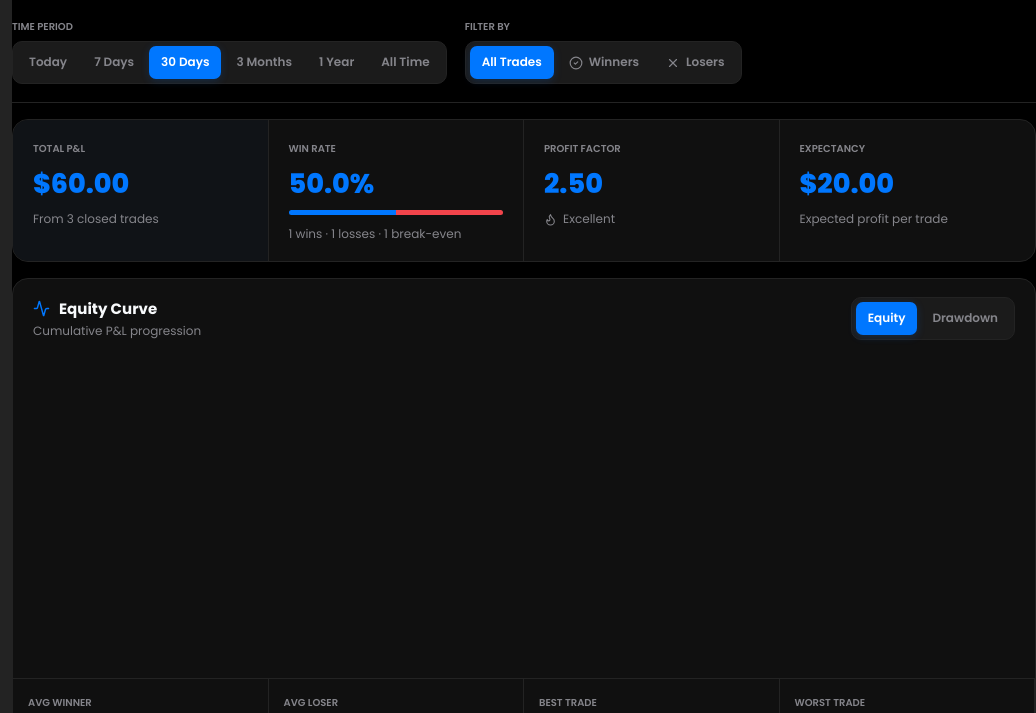
it: Analysis redesign › switches chart mode, selects a calendar day, and clears selection on period change
This screenshot has width=1036, height=713.
Click the button "Drawdown" at (965, 318), box [920,302,1010,335]
(page scrolled)
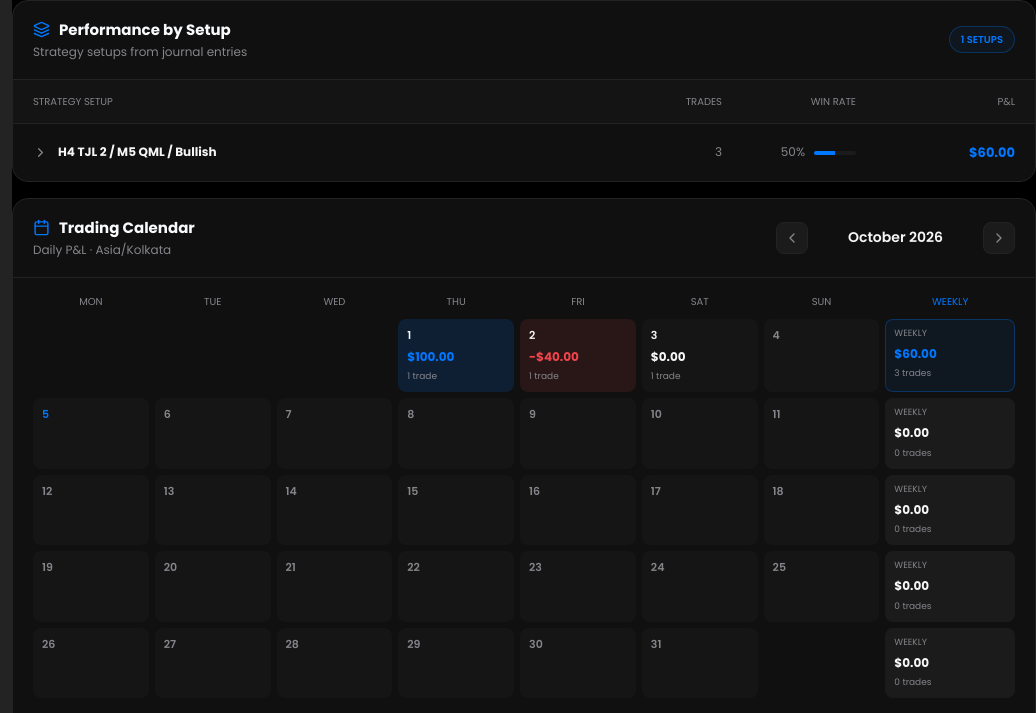
Click the button with aria-label "October 2, 1 trades, -$40.00" at (578, 355), box [520,319,636,392]
(page scrolled)
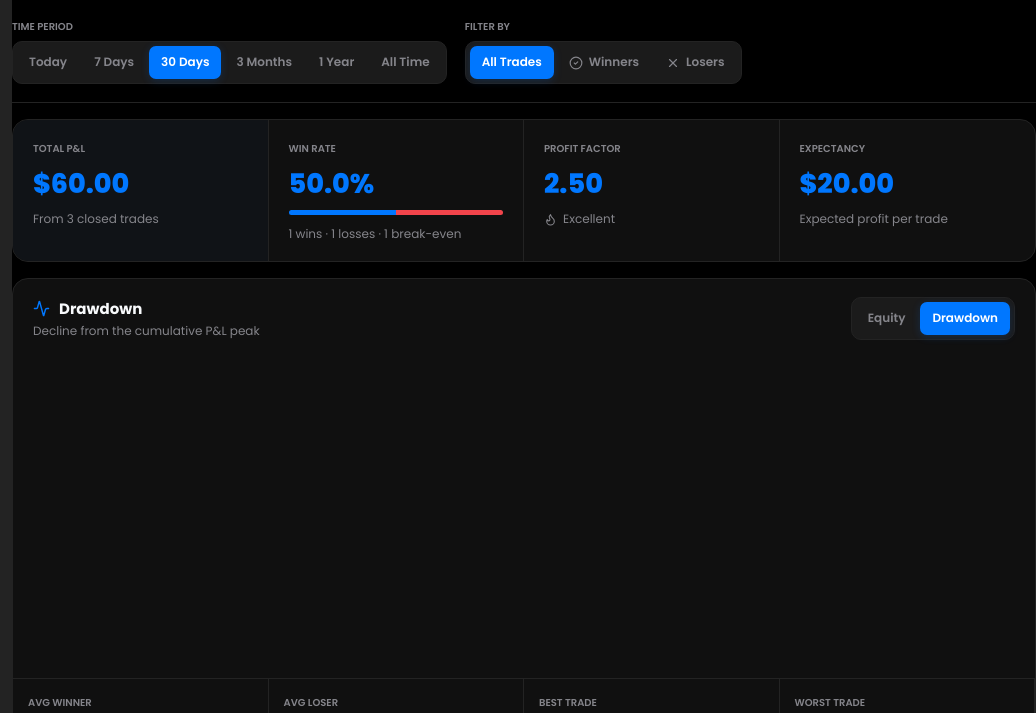
Click the button "Today" at (48, 63), box [17,46,79,79]
(page scrolled)
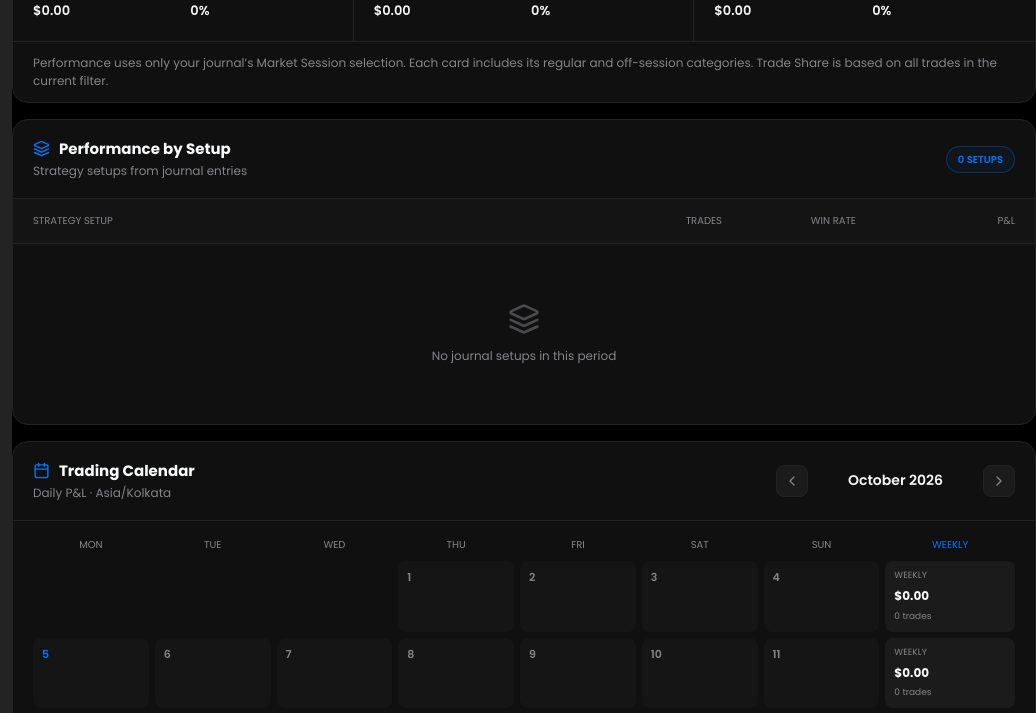
Expected: the text "No journal setups in this period" is shown, [432,347,616,365]
